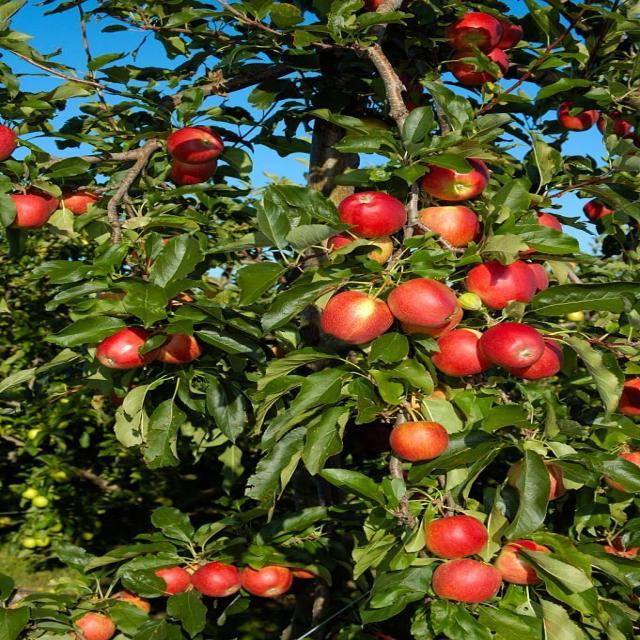Red Apple: (326, 293, 393, 341), (467, 262, 536, 306), (476, 322, 549, 363), (437, 559, 504, 603), (391, 282, 459, 325), (343, 192, 407, 236), (426, 160, 490, 200), (424, 518, 489, 556), (431, 333, 488, 375), (100, 327, 158, 368), (500, 541, 553, 582), (423, 205, 480, 243), (452, 46, 513, 80), (449, 14, 504, 49), (397, 424, 450, 459), (519, 213, 569, 249), (335, 231, 393, 262), (515, 343, 567, 377), (172, 129, 222, 163), (521, 462, 569, 496), (243, 566, 295, 596), (197, 564, 246, 595), (157, 331, 202, 362), (170, 154, 217, 183), (148, 569, 194, 597), (8, 196, 51, 224), (561, 102, 601, 131), (496, 18, 531, 48), (515, 262, 551, 291), (77, 613, 115, 639), (113, 595, 153, 619), (613, 454, 640, 484), (584, 200, 622, 221), (606, 537, 634, 565), (66, 193, 100, 213), (1, 127, 21, 160), (619, 380, 640, 410), (600, 114, 630, 134), (40, 192, 63, 212), (364, 1, 389, 13)
